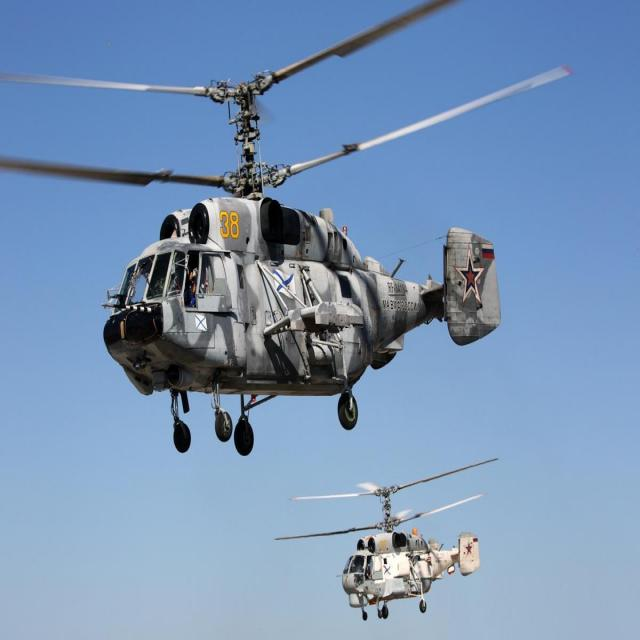MIL_HELO: (0, 0, 580, 461), (270, 454, 538, 626)
